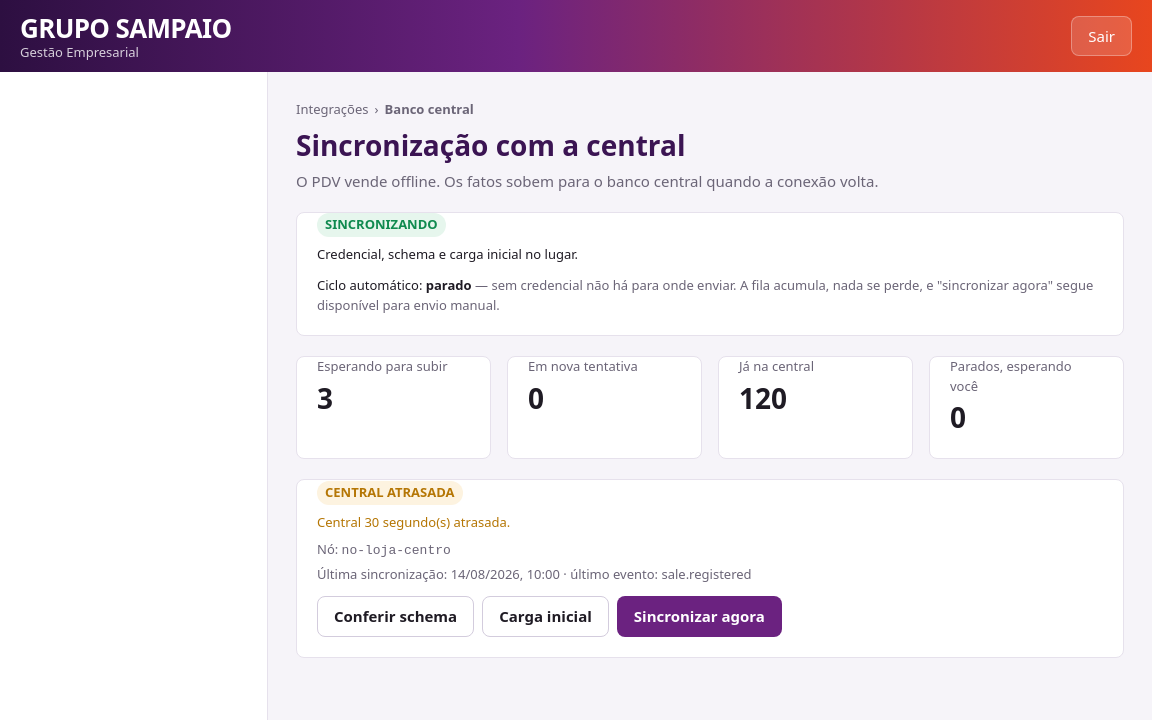
ações › sincronizar agora envia, informa o resultado e relê a situação
Click the button "Sincronizar agora". click: x=699, y=616
box: [617,596,782,636]
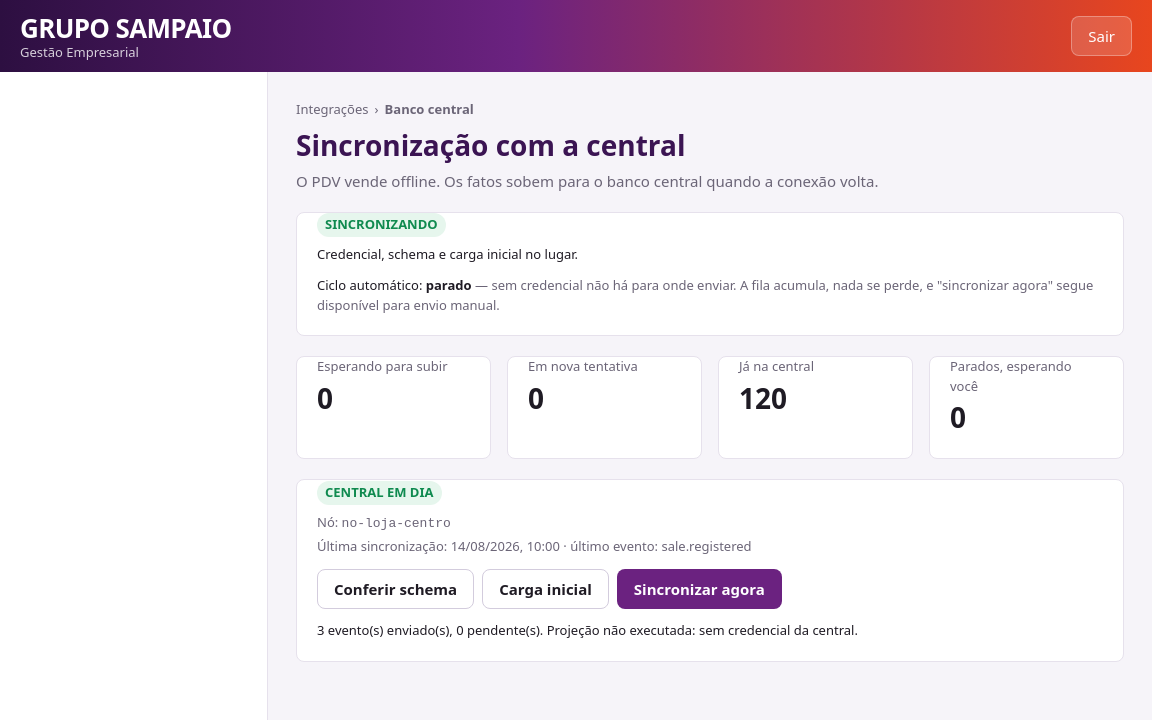
expect the text "Projeção não executada" is shown: met, box [317,621,858,639]
expect the text "CENTRAL EM DIA" is shown: met, box [317,481,442,504]
